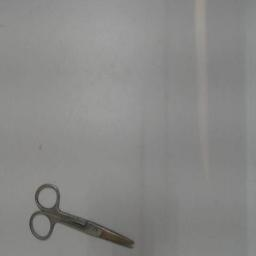Dressing Scissors: (26, 177, 138, 253)
